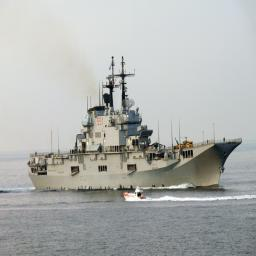Portanaves: (27, 53, 246, 193)
